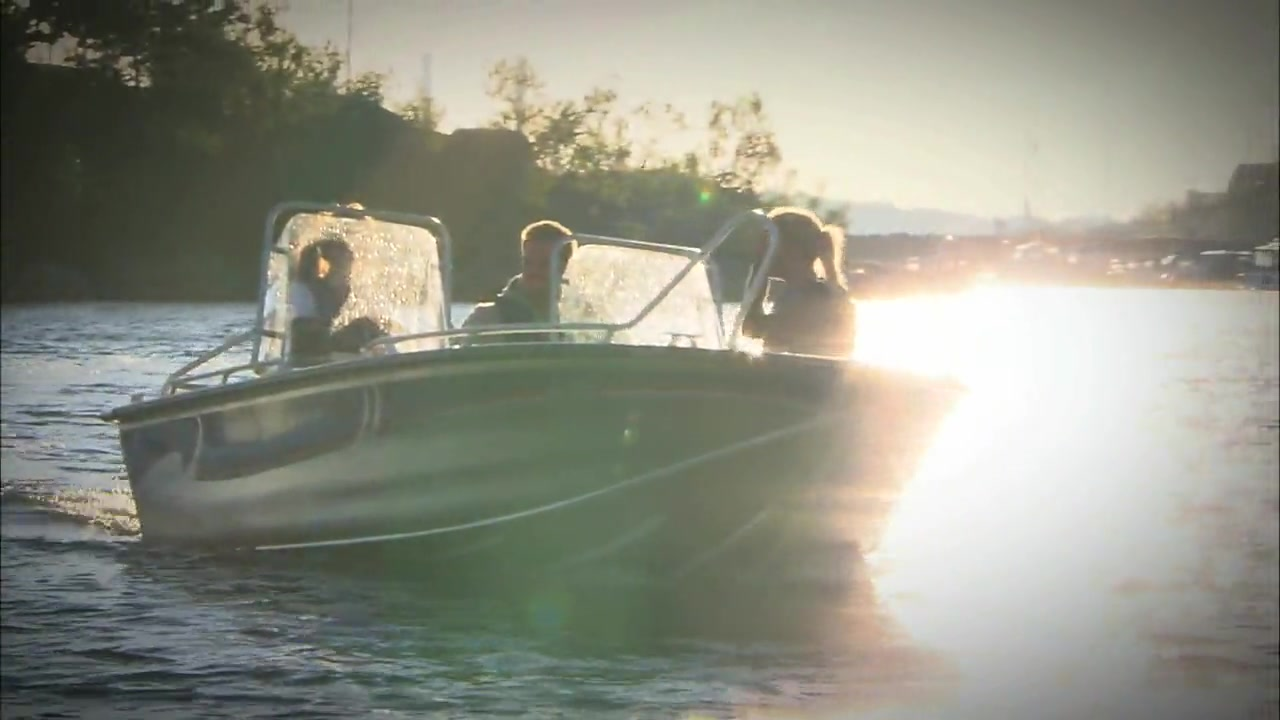boat: (105, 207, 968, 619)
